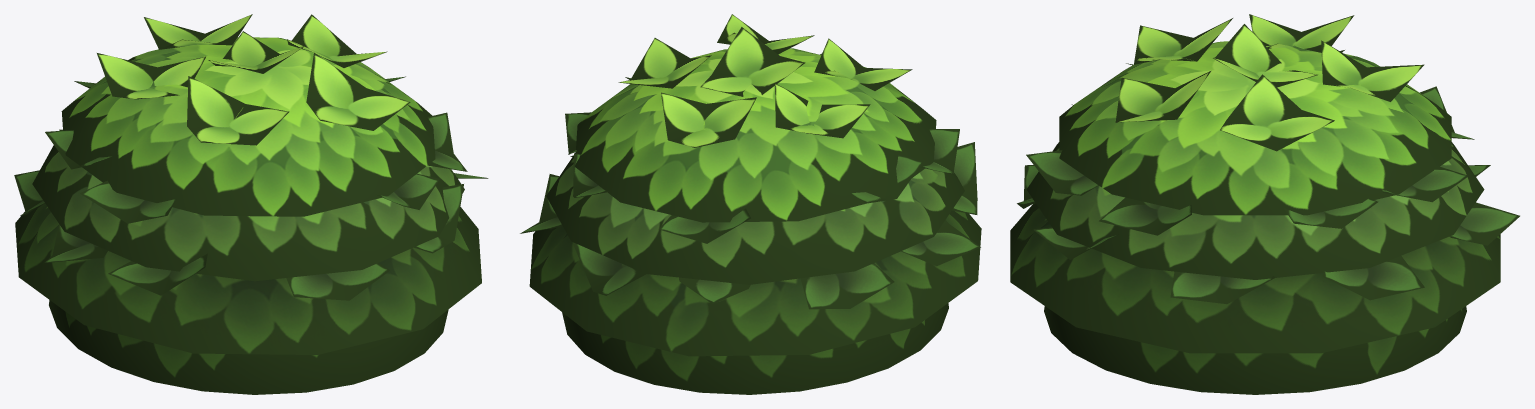
The model's file is stylized bush.fbx.
3 views of the same model, side by side, from view 1: azimuth 30°, elevation 25°; view 2: azimuth 150°, elevation 25°; view 3: azimuth 270°, elevation 25° (orthographic). The views are drawn at different scales.
Parts seen in each view (by area): view 1: stylized bush; view 2: stylized bush; view 3: stylized bush.
Part boxes in pixels (<box>): stylized bush: <box>14,14,488,394</box>; stylized bush: <box>520,14,981,394</box>; stylized bush: <box>1010,14,1519,394</box>.
Bounding box in the file's own units: 151 × 96.24 × 158.
Materials: 1 (1 with a texture image).
